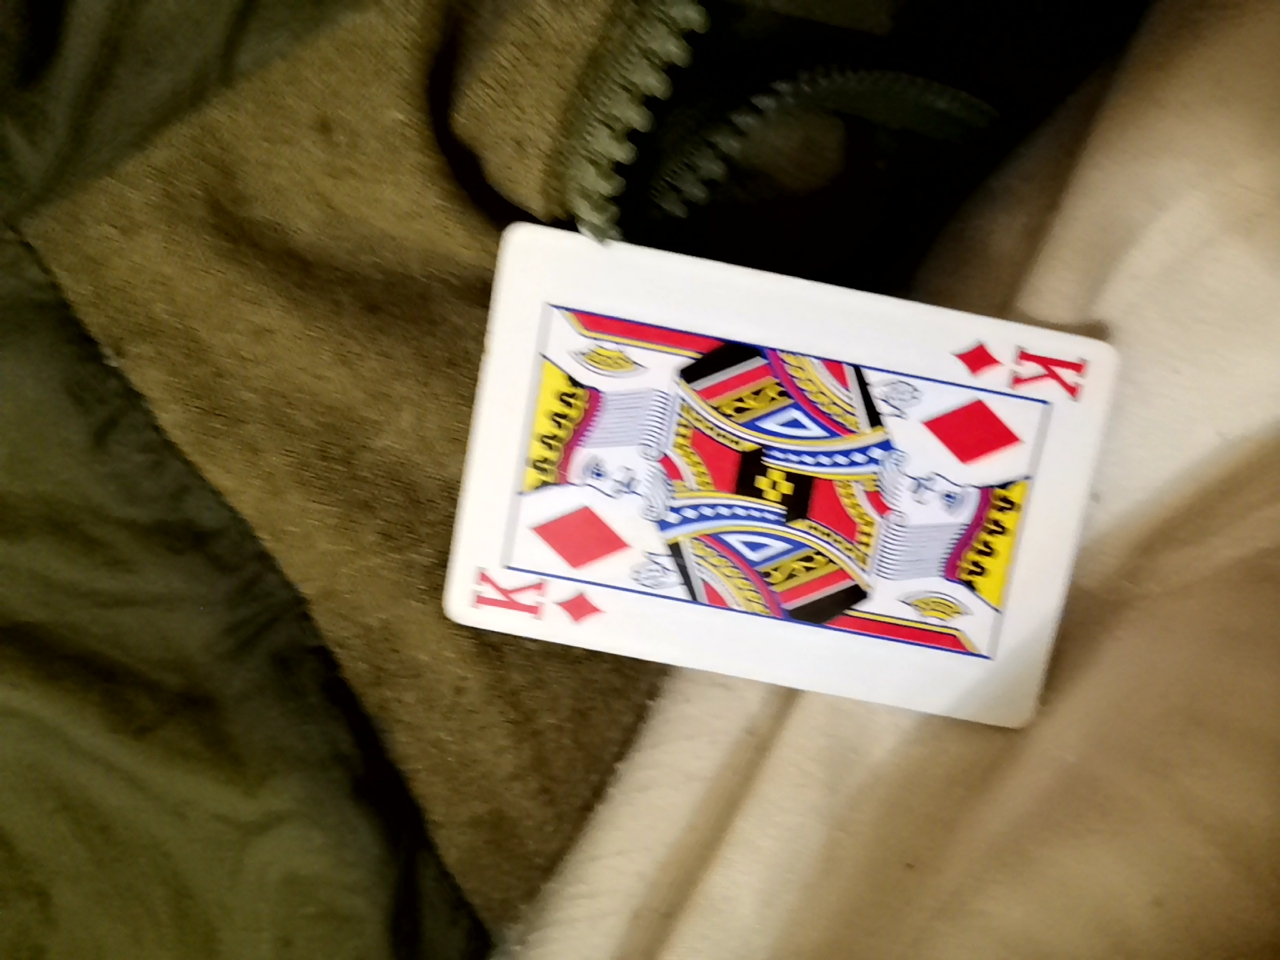fk k: (250, 288, 883, 763)
